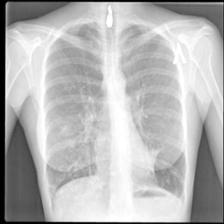tuberculosis: (38, 14, 190, 223)
